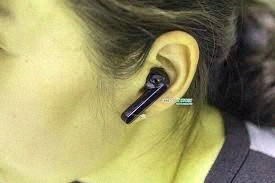earphone: (122, 30, 199, 124)
